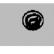correct: (22, 9, 44, 31)
